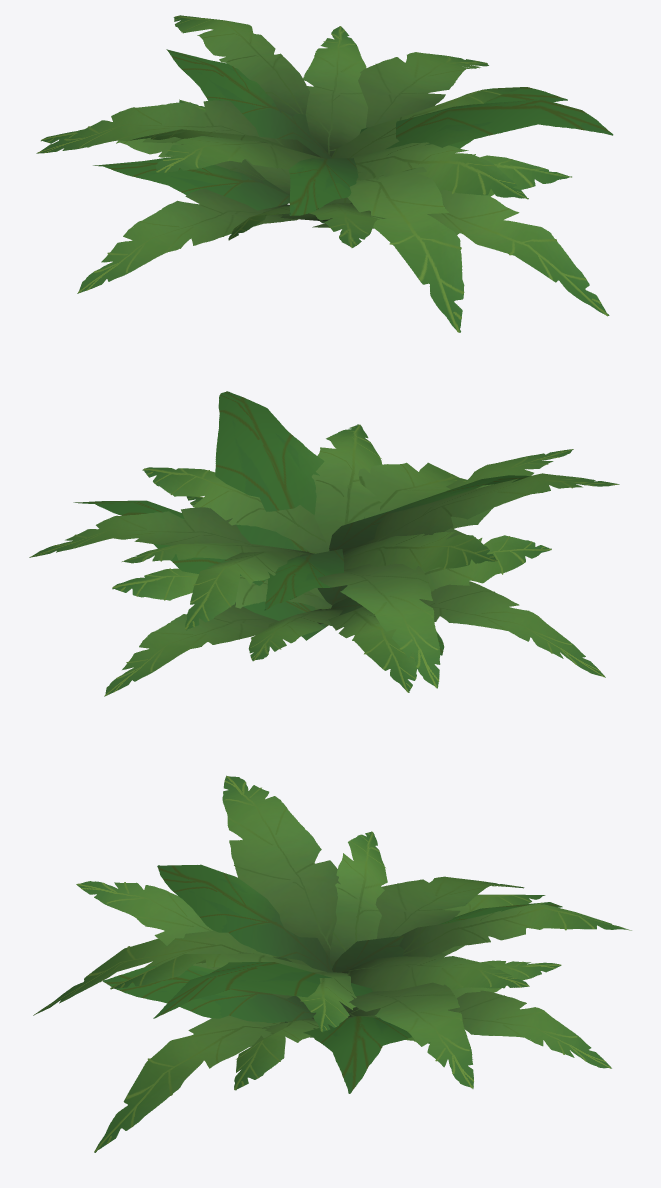
Rendered from SM_Tropical01.fbx.
3 renders of one model, top to bottom at view 1: azimuth 30°, elevation 25°; view 2: azimuth 150°, elevation 25°; view 3: azimuth 270°, elevation 25°, orthographic. The views are drawn at different scales.
Parts seen in each view (by area): view 1: Tropical_01; view 2: Tropical_01; view 3: Tropical_01.
Part boxes in pixels (<box>): Tropical_01: <box>36,15,613,332</box>; Tropical_01: <box>29,391,619,696</box>; Tropical_01: <box>33,775,631,1152</box>.
Size of the model in its own units: 232 by 85.86 by 233.
1 material, 1 textured.
